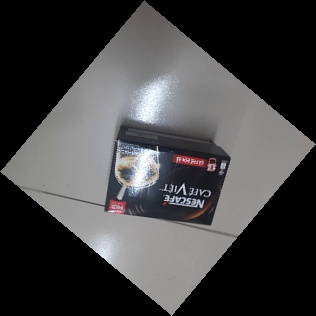CF Viet: (101, 124, 232, 228)
